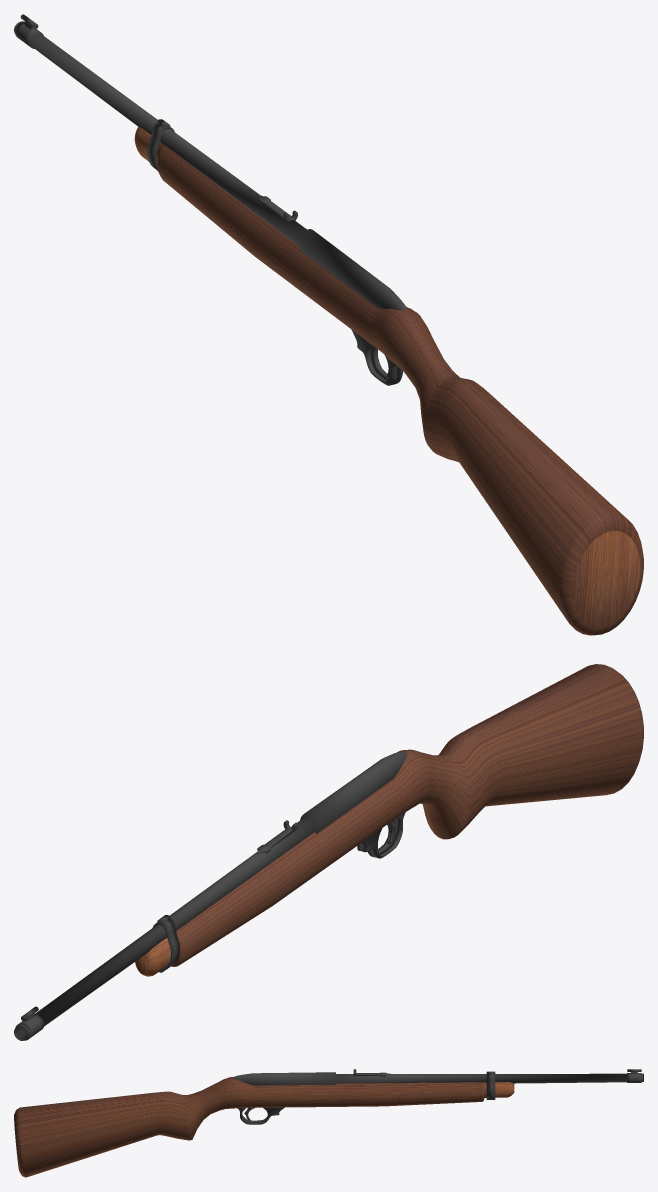
The model's file is Rifle_V3.glb.
3 views of the same model, one above another, from view 1: azimuth 30°, elevation 25°; view 2: azimuth 150°, elevation 25°; view 3: azimuth 270°, elevation 25° (orthographic). The views are drawn at different scales.
Visible parts, largest first — view 1: Cylinder; view 2: Cylinder; view 3: Cylinder.
Boxes of the visible parts, bbox=[...] form: Cylinder: bbox=[14, 14, 643, 635]; Cylinder: bbox=[14, 664, 643, 1040]; Cylinder: bbox=[14, 1069, 643, 1177].
Size of the model in its own units: 1.26 by 2.87 by 15.38.
2 materials, 1 textured.
